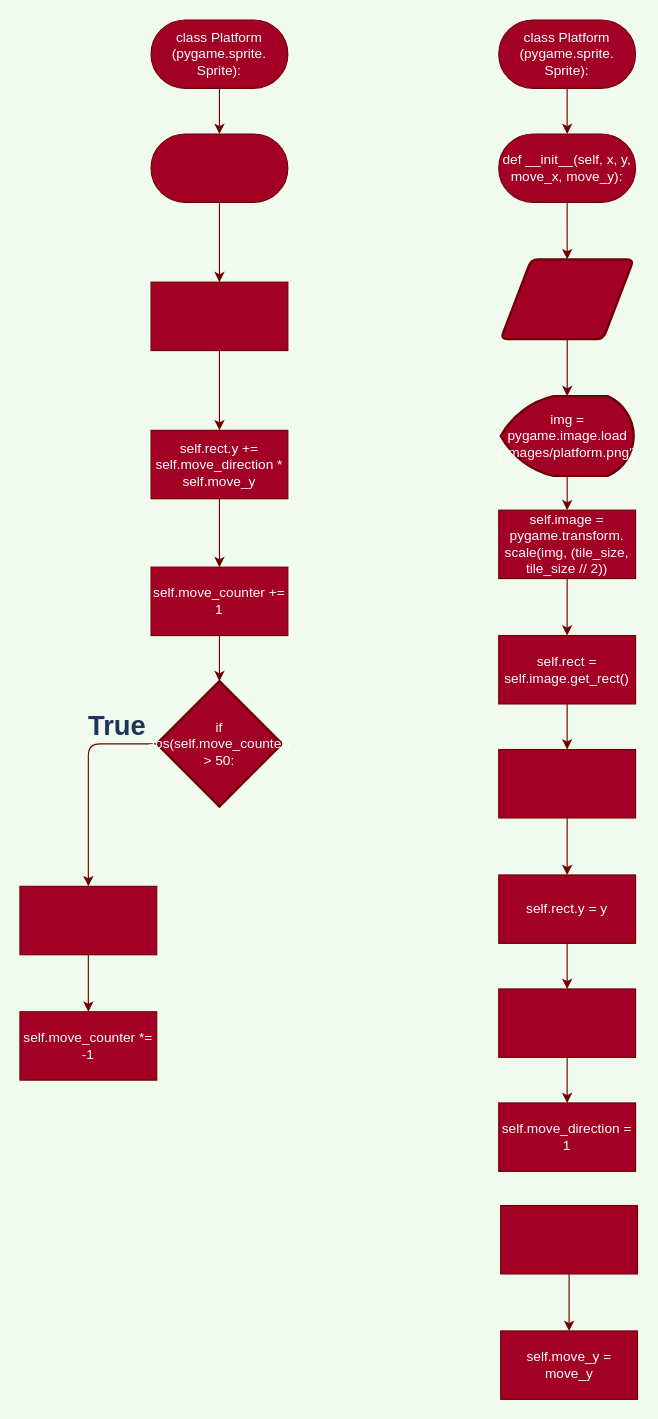
The diagram is 658 pixels wide and 1419 high, and some of its shapes have lost their labels. The shapes that lost their labels are listed below. From the top down, each one's centre as x and y in pixels, then its label:
At pixel 219 167: "def update(self):".
At pixel 219 316: "self.rect.x += self.move_direction * self.move_x".
At pixel 566 299: "pygame. sprite. Sprite.__init__ (self)".
At pixel 567 783: "self.rect.x = x".
At pixel 88 920: "self.move_direction *= -1".
At pixel 567 1022: "self.move_counter = 0".
At pixel 568 1239: "self.move_x = move_x".
